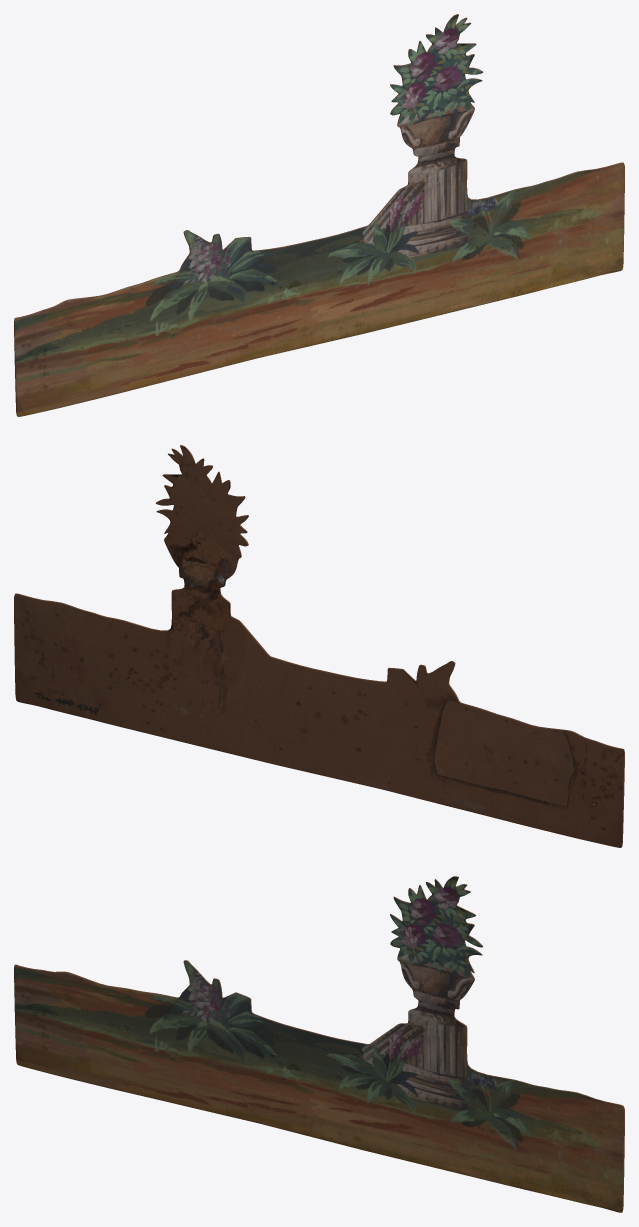
3 renders of one model, top to bottom at view 1: azimuth 30°, elevation 25°; view 2: azimuth 150°, elevation 25°; view 3: azimuth 330°, elevation 25°, orthographic.
Parts seen in each view (by area): view 1: A3273; view 2: A3273; view 3: A3273.
Boxes of the visible parts, <box> form: A3273: <box>14,14,624,416</box>; A3273: <box>14,445,624,847</box>; A3273: <box>14,876,624,1212</box>.
Bounding box in the file's own units: 97.25 × 45.12 × 0.2008.
Materials: 2 (2 with a texture image).
